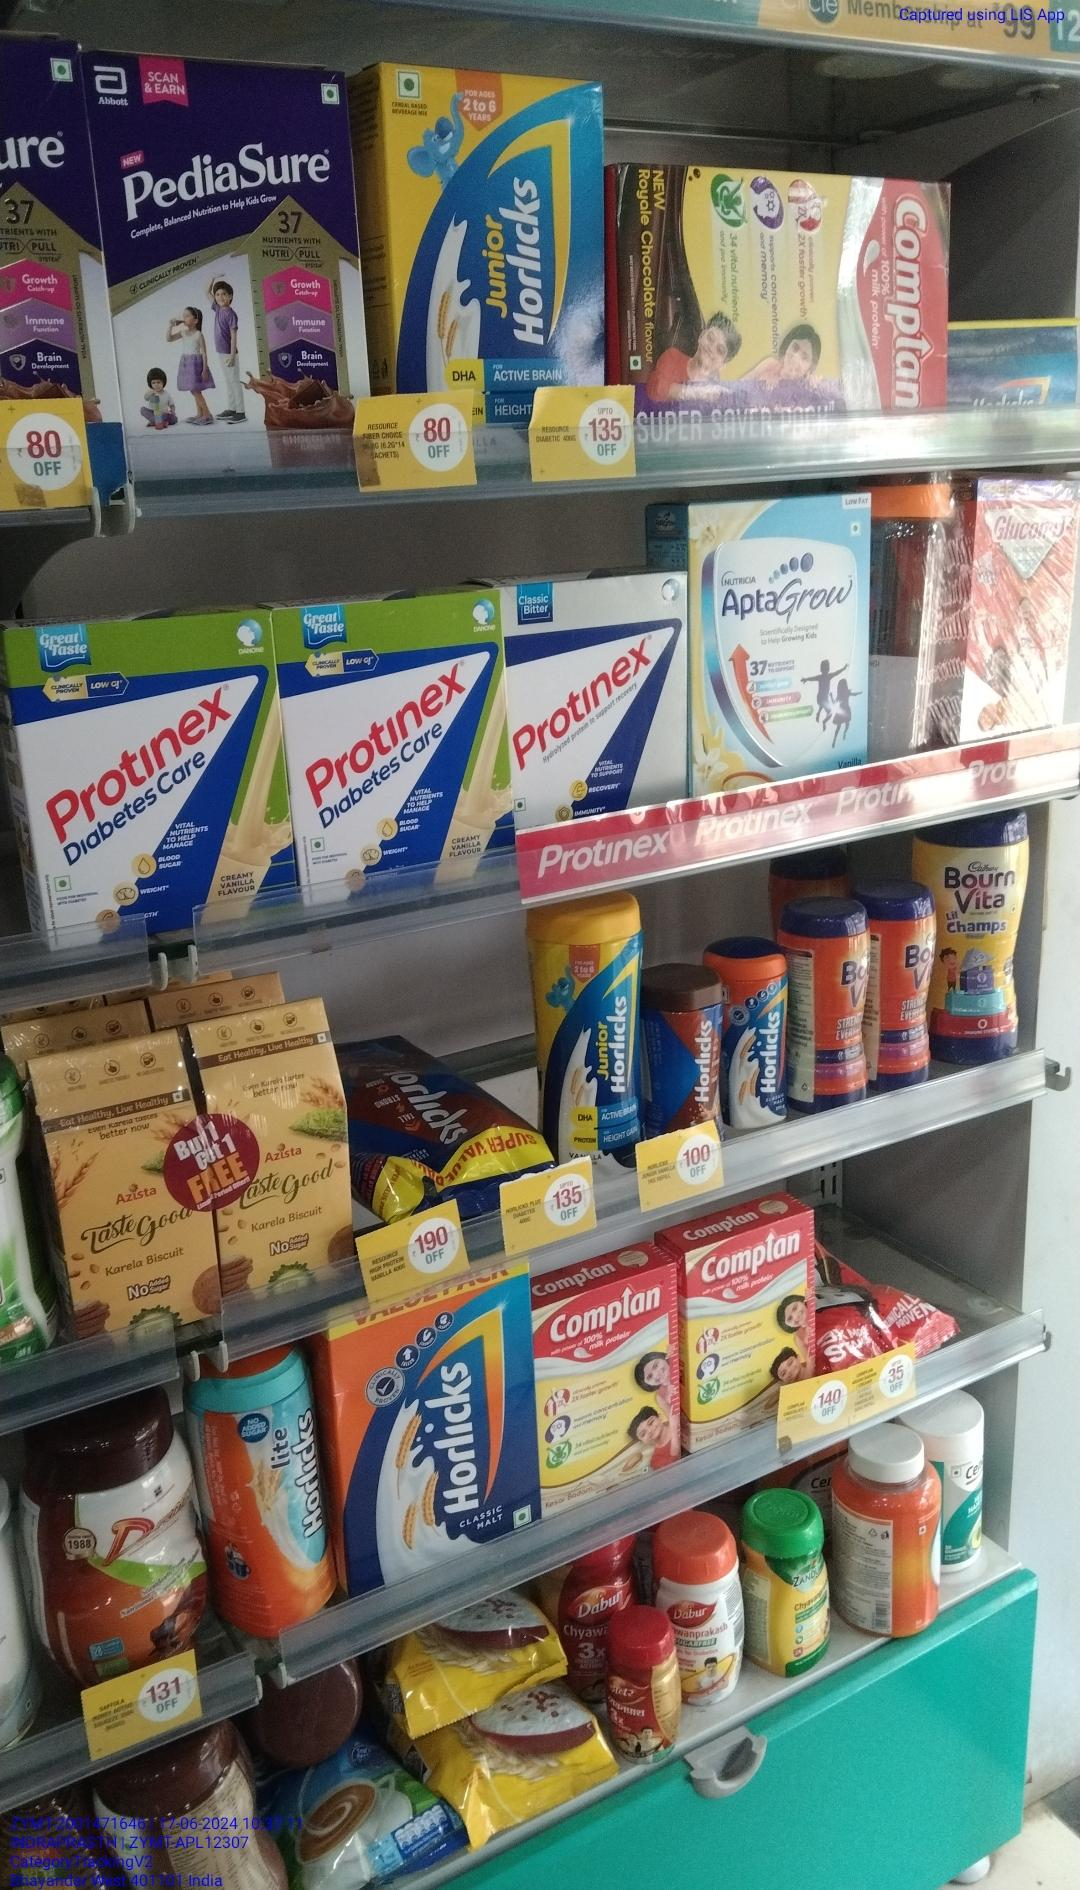BOURN_VITA_CHAMPS_500_G_JAR: (939, 822, 1025, 1057)
COMPLAN_KESAR_BADAM_200_GMS_PACK: (532, 1284, 683, 1504), (688, 1224, 818, 1428)
HORLICKS_JUNIOR_VANILLA_500_GM_JAR: (534, 902, 643, 1176)
HORLICKS_LITE_REGULAR_MALT_500_GM_JAR: (202, 1359, 323, 1647)
HORLICK_CHOCOLATE_200_G_JAR: (650, 983, 728, 1135)
HORLICK_CLASSIC_MALT_200_G_JAR: (731, 951, 791, 1129)
HORLICK_CLASSIC_MALT_500_G_PACK: (348, 1271, 531, 1601)
PEDIASURE_CHOCOLATE_500_G_PACK: (110, 53, 365, 480)
